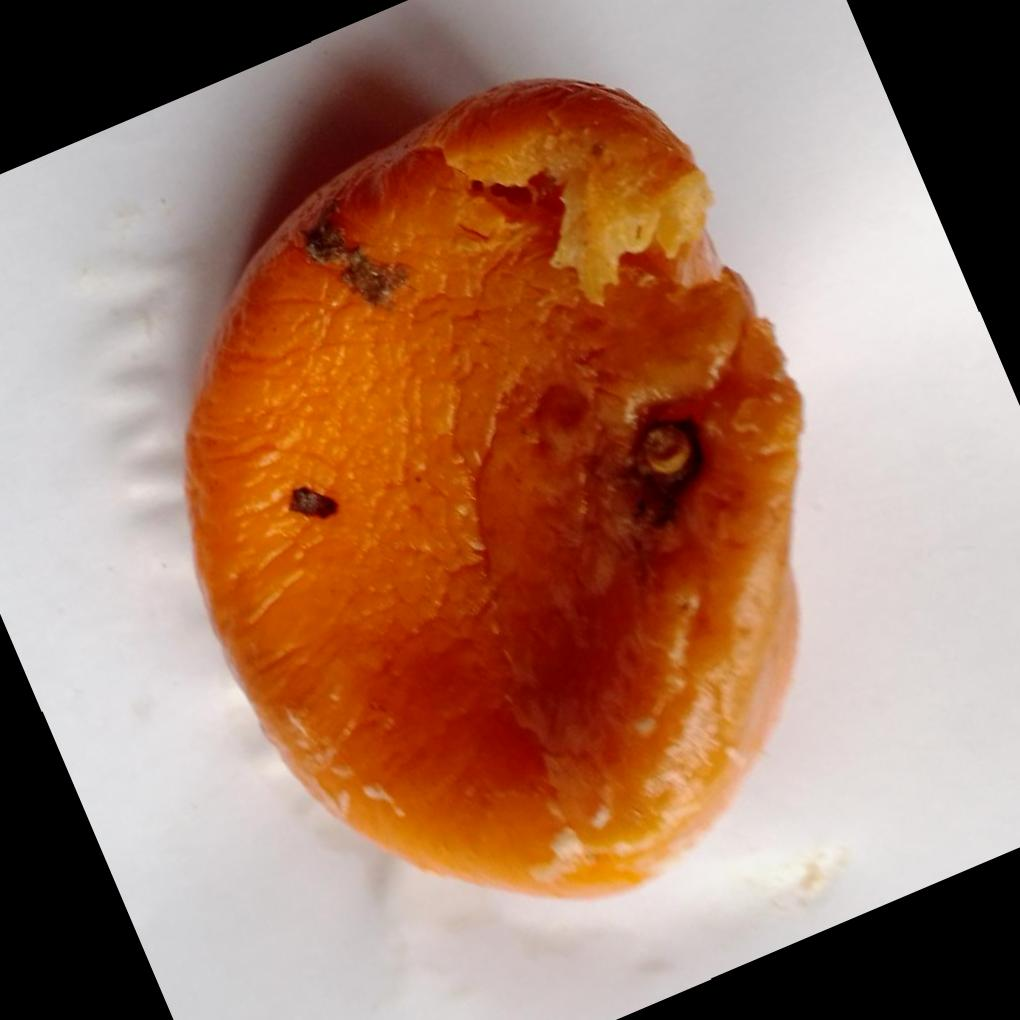FreshOrange: (182, 77, 807, 907)
